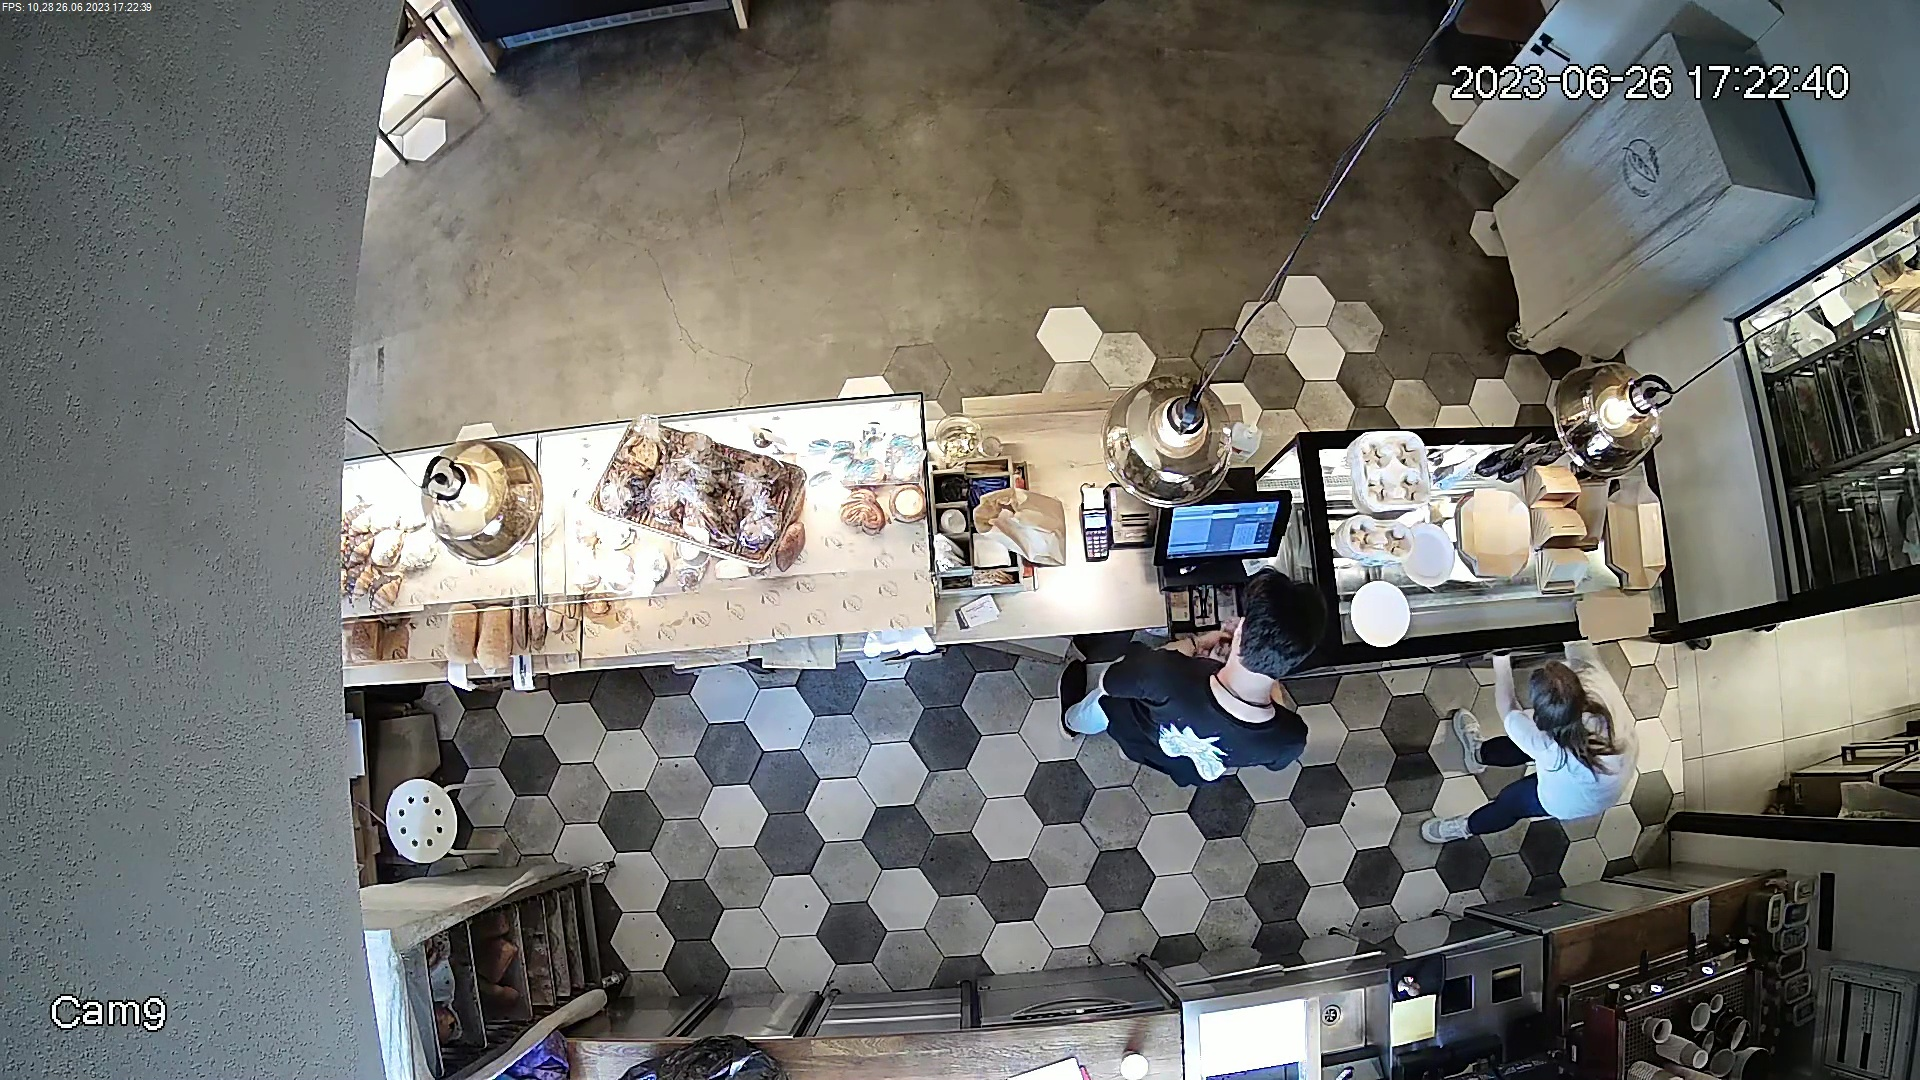openedcash: (1158, 489, 1298, 658)
pack: (980, 484, 1068, 566)
